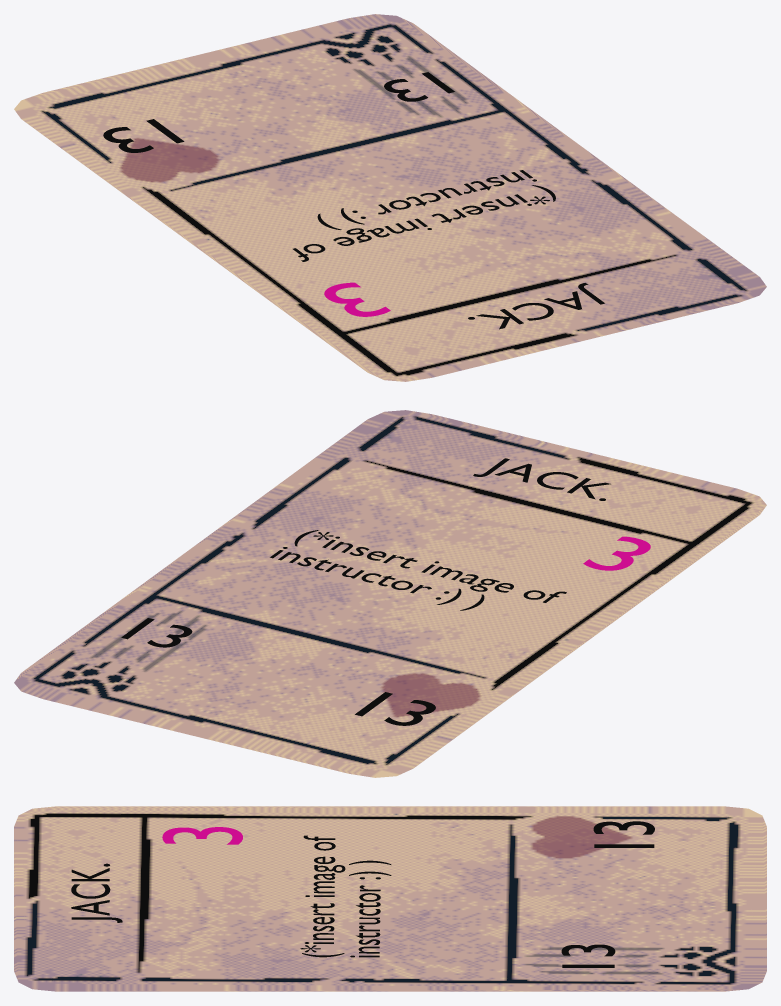
The model's file is JACK.glb.
3 views of the same model, one above another, from view 1: azimuth 30°, elevation 25°; view 2: azimuth 150°, elevation 25°; view 3: azimuth 270°, elevation 25° (orthographic). The views are drawn at different scales.
Visible parts, largest first — view 1: JACK; view 2: JACK; view 3: JACK.
Boxes of the visible parts, left/top/right/bottom form: JACK: left=14, top=14, right=766, bottom=381; JACK: left=14, top=410, right=766, bottom=777; JACK: left=14, top=806, right=766, bottom=991.
Size of what is drawn, in the model's own units: 44.93 by 0.4028 by 77.22.
Materials: 5 (1 with a texture image).
